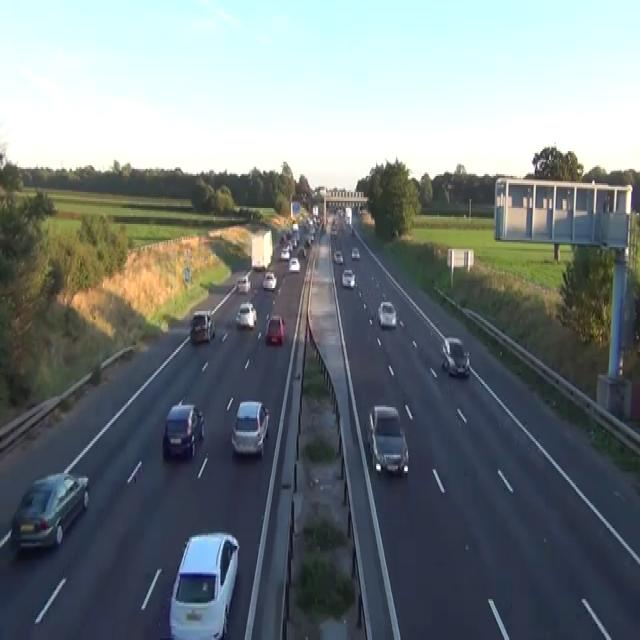Car: (168, 530, 239, 638), (10, 471, 89, 551), (365, 404, 409, 476), (162, 402, 204, 458), (230, 400, 269, 457), (441, 336, 470, 377), (189, 309, 215, 343), (265, 313, 285, 345), (235, 300, 257, 329), (377, 301, 396, 327), (236, 274, 251, 293), (341, 268, 355, 288), (262, 270, 276, 290), (289, 256, 300, 272), (333, 249, 343, 263), (252, 260, 265, 270), (351, 247, 360, 260), (280, 247, 289, 260), (297, 245, 306, 258), (290, 236, 297, 249), (330, 228, 337, 238), (309, 229, 315, 240), (305, 237, 311, 247), (280, 235, 286, 245), (292, 222, 298, 231), (321, 224, 326, 233), (350, 226, 354, 234)
Truck: (250, 228, 273, 270), (290, 201, 300, 219), (345, 206, 352, 226)
